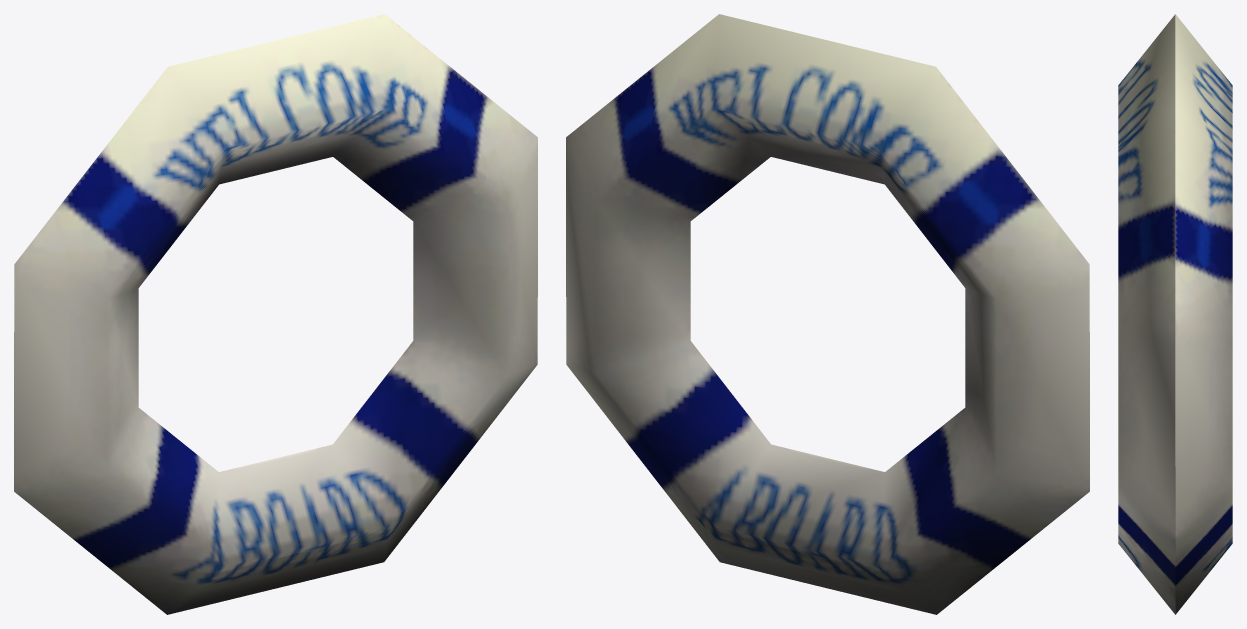
The model's file is furni_0200071_01.FBX.
3 views of the same model, side by side, from view 1: azimuth 30°, elevation 25°; view 2: azimuth 150°, elevation 25°; view 3: azimuth 270°, elevation 25° (orthographic). The views are drawn at different scales.
Parts seen in each view (by area): view 1: furni_0200071; view 2: furni_0200071; view 3: furni_0200071.
Boxes of the visible parts, x1,y1,x2,y2 form: furni_0200071: (14, 14, 537, 614); furni_0200071: (566, 14, 1089, 614); furni_0200071: (1118, 14, 1232, 614).
Size of the model in its own units: 71.81 by 71.81 by 14.77.
